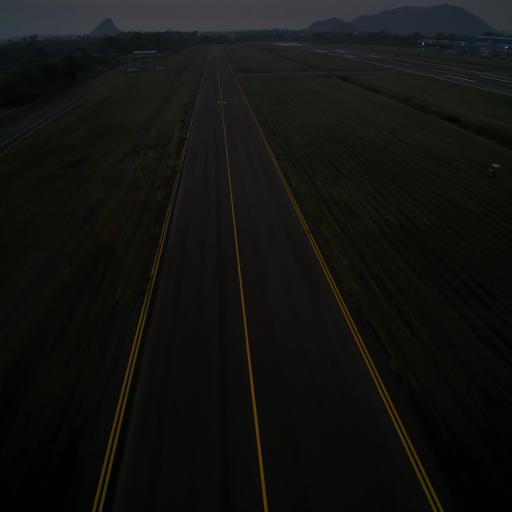on: (277, 146, 280, 155), (172, 152, 174, 160)
